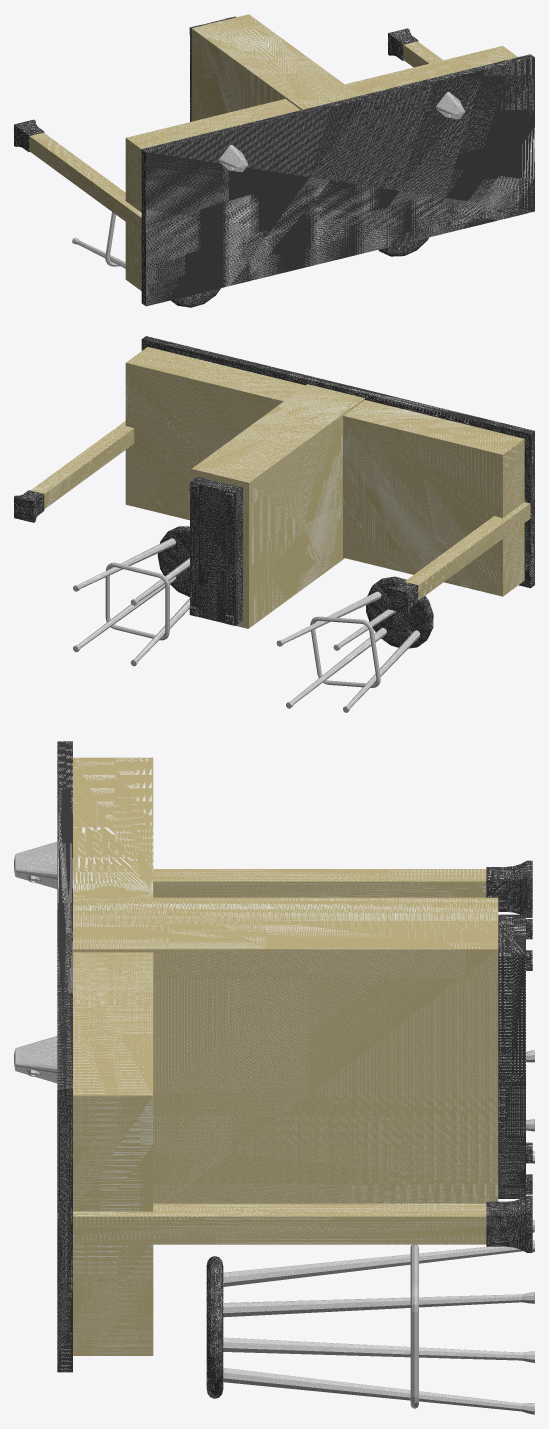
3 views of the same model, one above another, from view 1: azimuth 30°, elevation 25°; view 2: azimuth 150°, elevation 25°; view 3: azimuth 270°, elevation 25° (orthographic). The views are drawn at different scales.
Visible parts, largest first — view 1: science desk; view 2: science desk; view 3: science desk.
Part boxes in pixels (bbox=[...]): science desk: bbox=[14, 14, 534, 307]; science desk: bbox=[14, 336, 534, 712]; science desk: bbox=[14, 741, 534, 1414].
Size of the model in its own units: 79.06 by 40.44 by 49.35.
